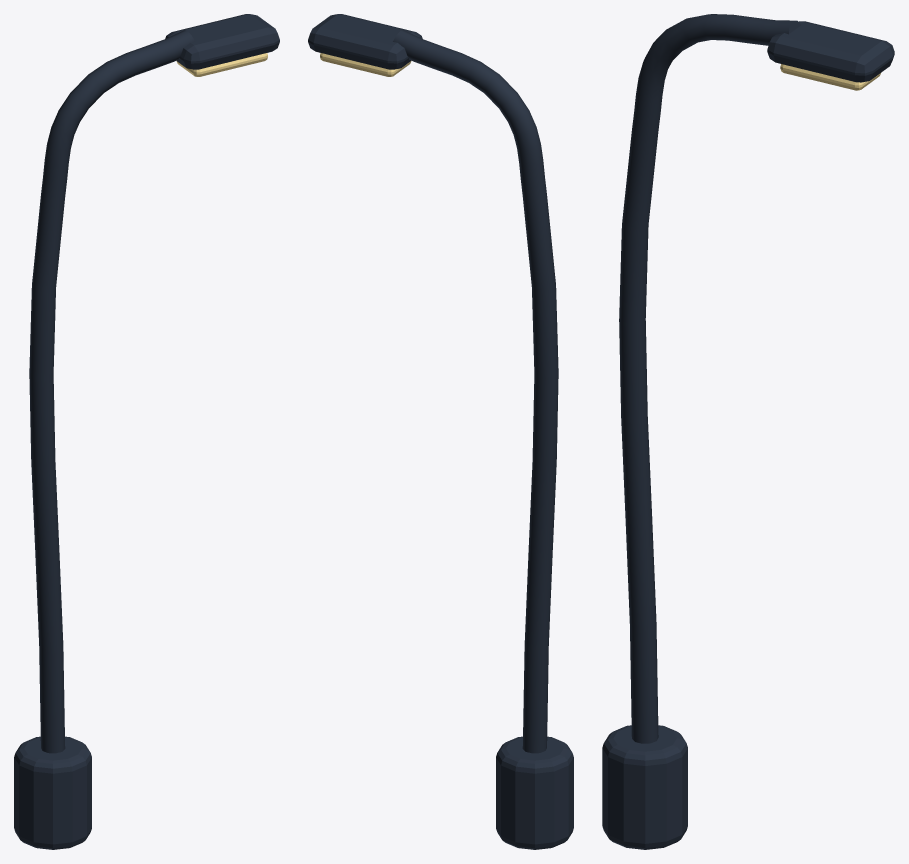
The model's file is street_lamp.glb.
3 views of the same model, side by side, from view 1: azimuth 30°, elevation 25°; view 2: azimuth 150°, elevation 25°; view 3: azimuth 330°, elevation 25° (orthographic). The views are drawn at different scales.
Parts seen in each view (by area): view 1: street_lamp; view 2: street_lamp; view 3: street_lamp.
Part boxes in pixels (bbox=[...]): street_lamp: bbox=[14, 14, 279, 849]; street_lamp: bbox=[308, 14, 573, 849]; street_lamp: bbox=[602, 14, 894, 849].
Bounding box in the file's own units: 2.37 × 7 × 0.64.
